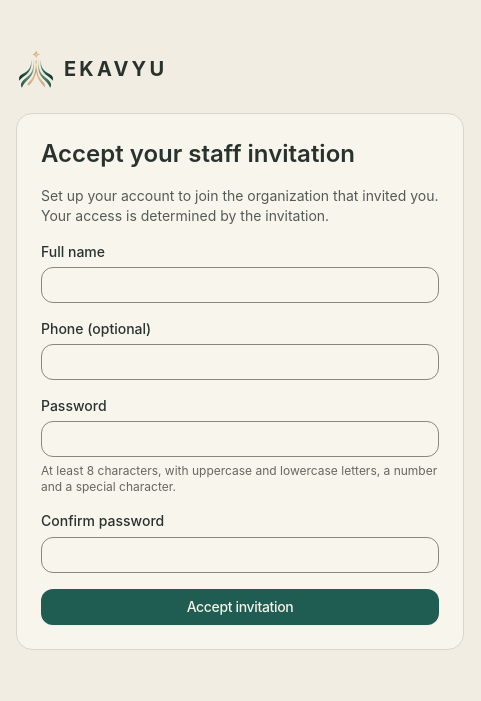
Scenario: Staff invitation entry › keeps the form and presents expired-link feedback without changing identity
In the field labelled "Full name": point(240, 285) [41,267,439,303], type "  Invited Staff  "
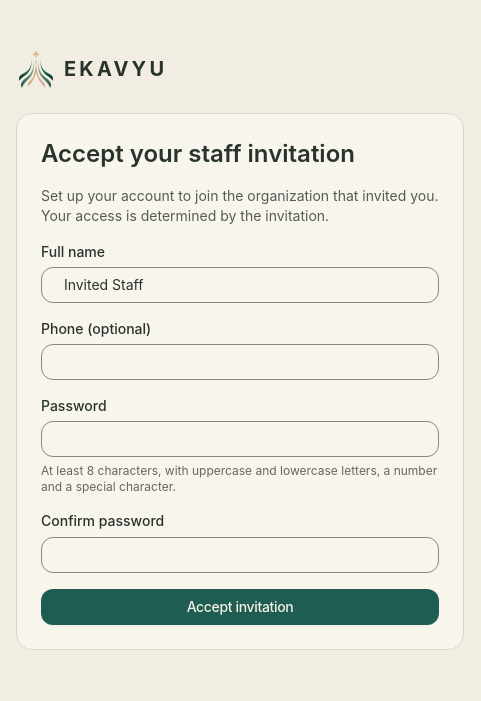
In the password field labelled "Password": point(240, 439) [41,421,439,457], type "StrongTest1!"
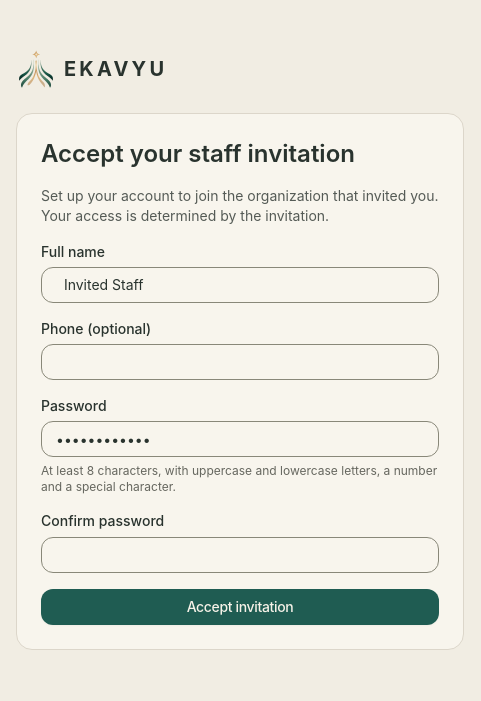
In the password field labelled "Confirm password": point(240, 554) [41,536,439,572], type "StrongTest1!"
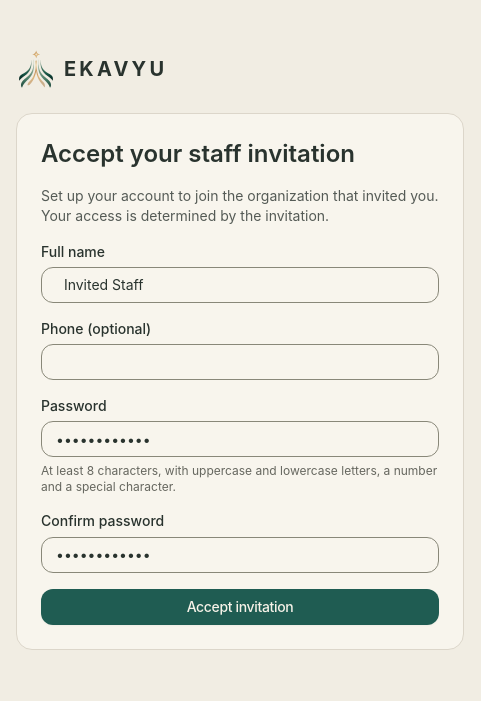
Submit the form named "Accept invitation", box [41,186,439,624]
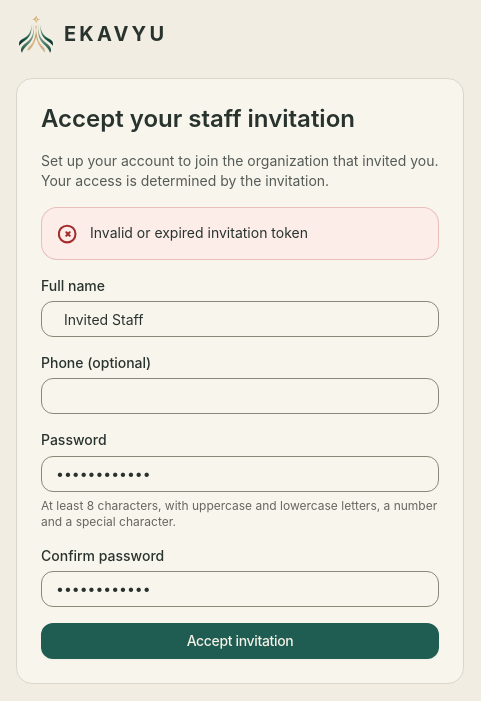
Check: the button "Accept invitation" is enabled, box [41,623,439,659]
Check: the message shows "expired", box [90,224,308,241]
